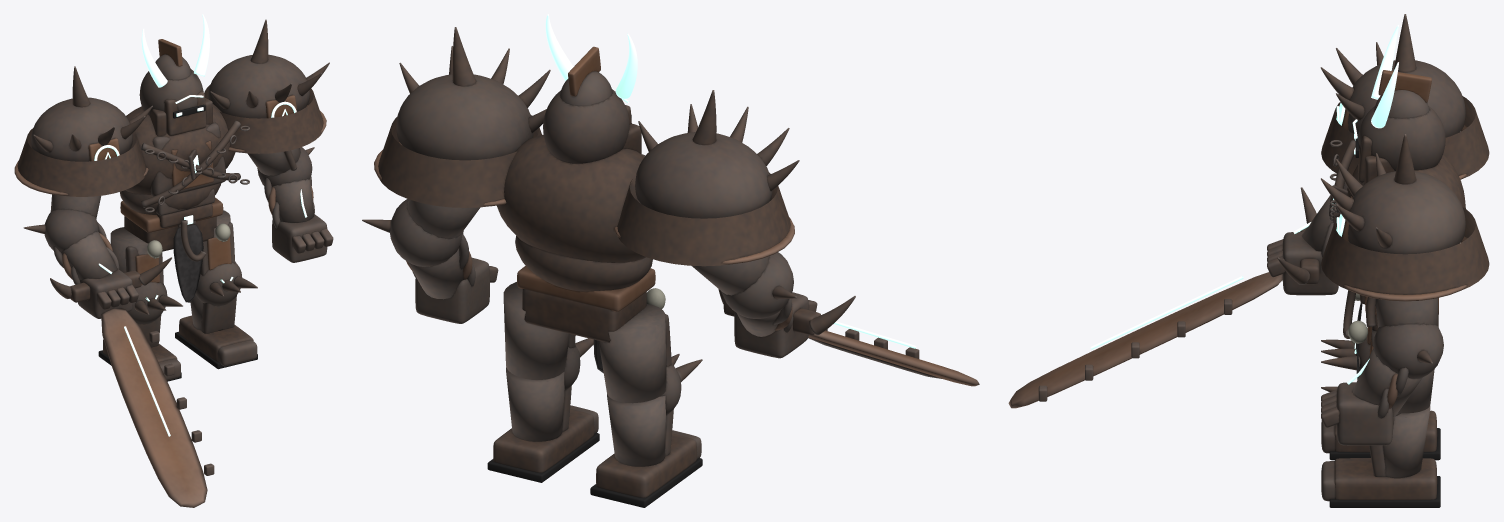
The model's file is SM_Champion_9010_Soul.glb.
3 views of the same model, side by side, from view 1: azimuth 30°, elevation 25°; view 2: azimuth 150°, elevation 25°; view 3: azimuth 270°, elevation 25° (orthographic). The views are drawn at different scales.
Visible parts, largest first — view 1: Soul; view 2: Soul; view 3: Soul.
Part boxes in pixels (bbox=[...]): Soul: bbox=[14, 14, 333, 507]; Soul: bbox=[362, 14, 979, 507]; Soul: bbox=[1008, 14, 1489, 507].
Size of the model in its own units: 2.78 by 2.9 by 2.86.
1 material, 1 textured.
